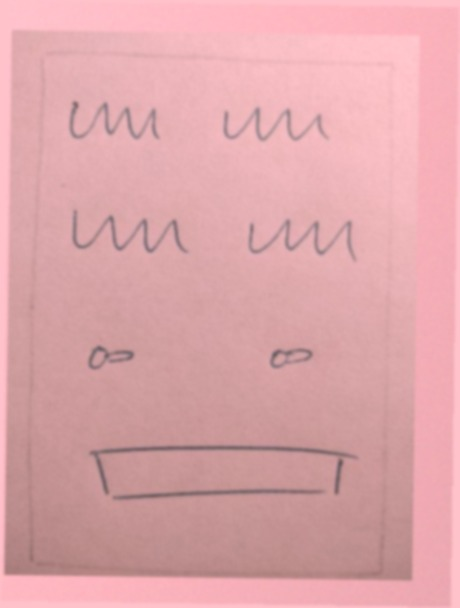switch: (76, 331, 148, 386), (253, 333, 326, 378)
text: (67, 198, 196, 268), (240, 203, 364, 272), (216, 95, 342, 160), (61, 89, 173, 149)
text_input: (68, 439, 369, 509)
